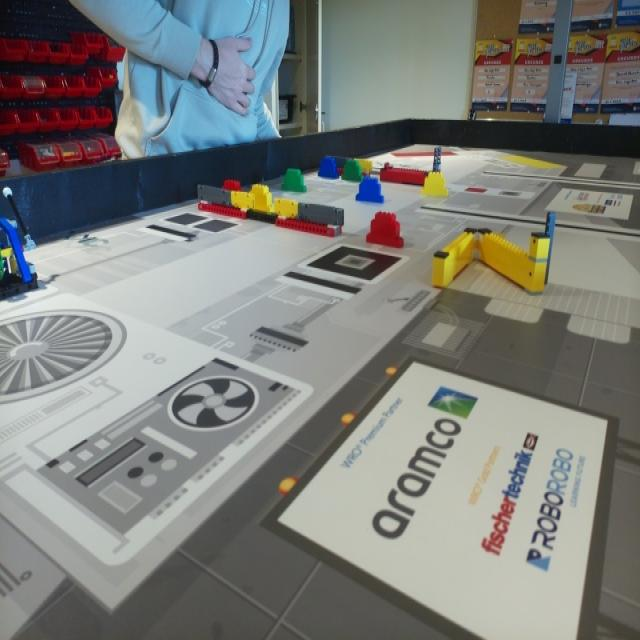blau: (356, 177, 384, 204), (318, 156, 338, 180)
gruen: (282, 168, 308, 193), (345, 161, 362, 179)
rot: (365, 211, 404, 246), (223, 179, 241, 190)
yellow: (424, 172, 448, 196), (255, 184, 272, 208)
